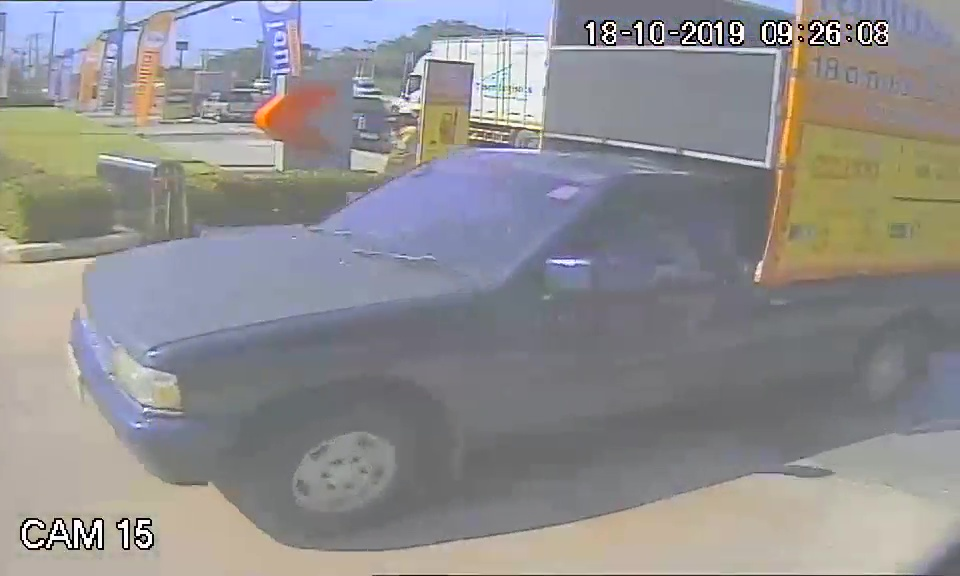pickup: (65, 148, 951, 487)
